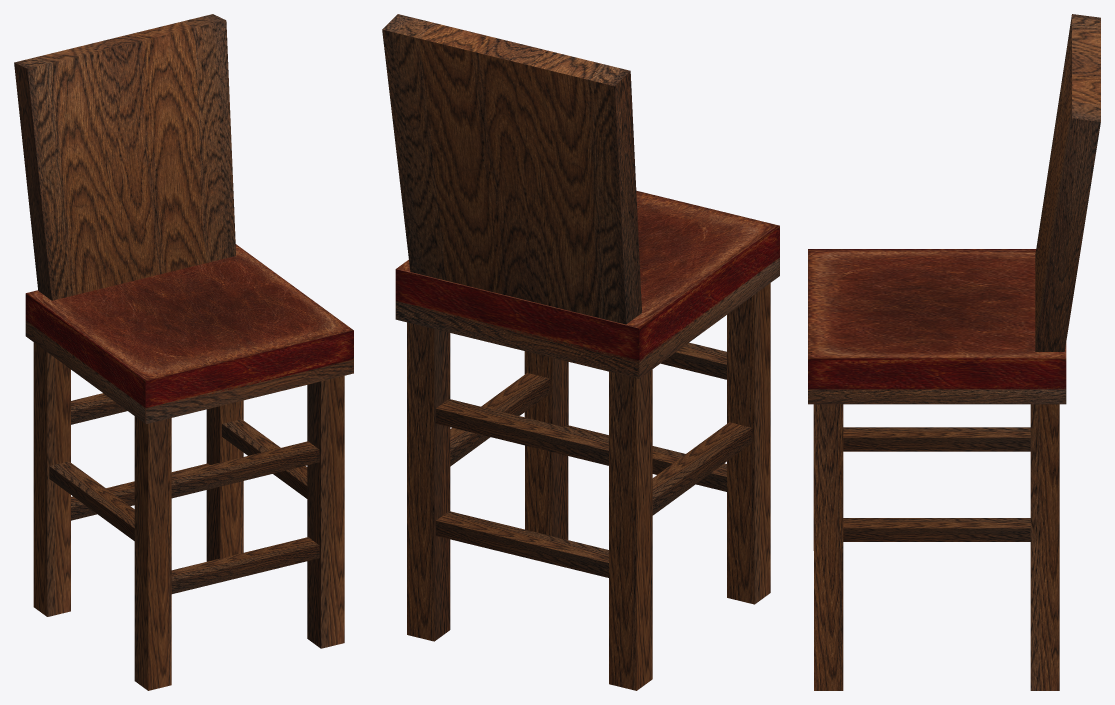
File: mm9_deco_barstool2.glb
3 renders of one model, left to right at view 1: azimuth 30°, elevation 25°; view 2: azimuth 150°, elevation 25°; view 3: azimuth 270°, elevation 25°, orthographic. The views are drawn at different scales.
Visible parts, largest first — view 1: Barstool2; view 2: Barstool2; view 3: Barstool2.
Part boxes in pixels (left/top/right/bottom): Barstool2: left=14, top=14, right=353, bottom=690; Barstool2: left=382, top=14, right=779, bottom=690; Barstool2: left=808, top=14, right=1100, bottom=690.
Bounding box in the file's own units: 0.6091 × 1.49 × 0.6912.
2 materials, 2 textured.
